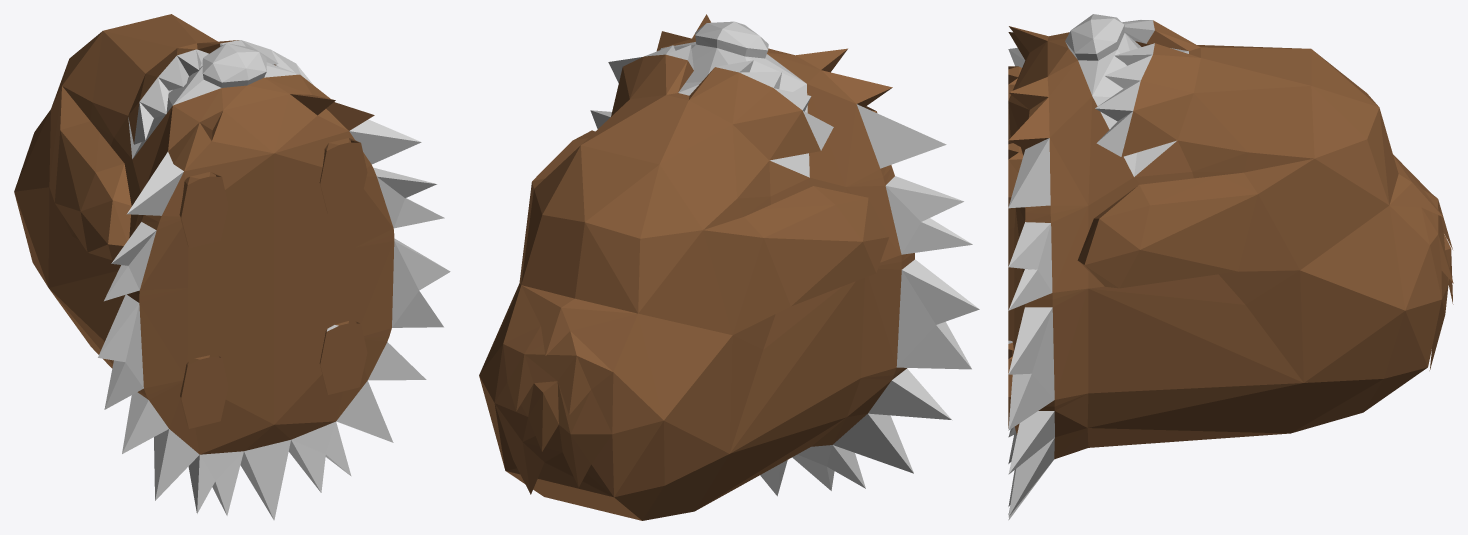
Rendered from BR_Piloswine-Shiny02.obj.
3 renders of one model, left to right at view 1: azimuth 30°, elevation 25°; view 2: azimuth 150°, elevation 25°; view 3: azimuth 270°, elevation 25°, orthographic. The views are drawn at different scales.
Parts seen in each view (by area): view 1: inomoo; view 2: inomoo; view 3: inomoo.
Boxes of the visible parts, bbox=[...] form: inomoo: bbox=[14, 14, 450, 520]; inomoo: bbox=[479, 14, 979, 520]; inomoo: bbox=[1008, 14, 1453, 520].
Bounding box in the file's own units: 11.77 × 14.09 × 11.63.
